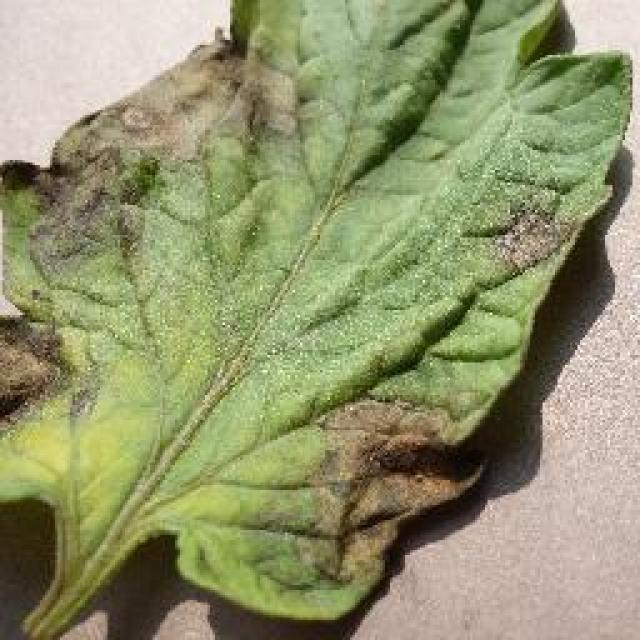Tomato late blight leaf: (0, 0, 627, 622)
